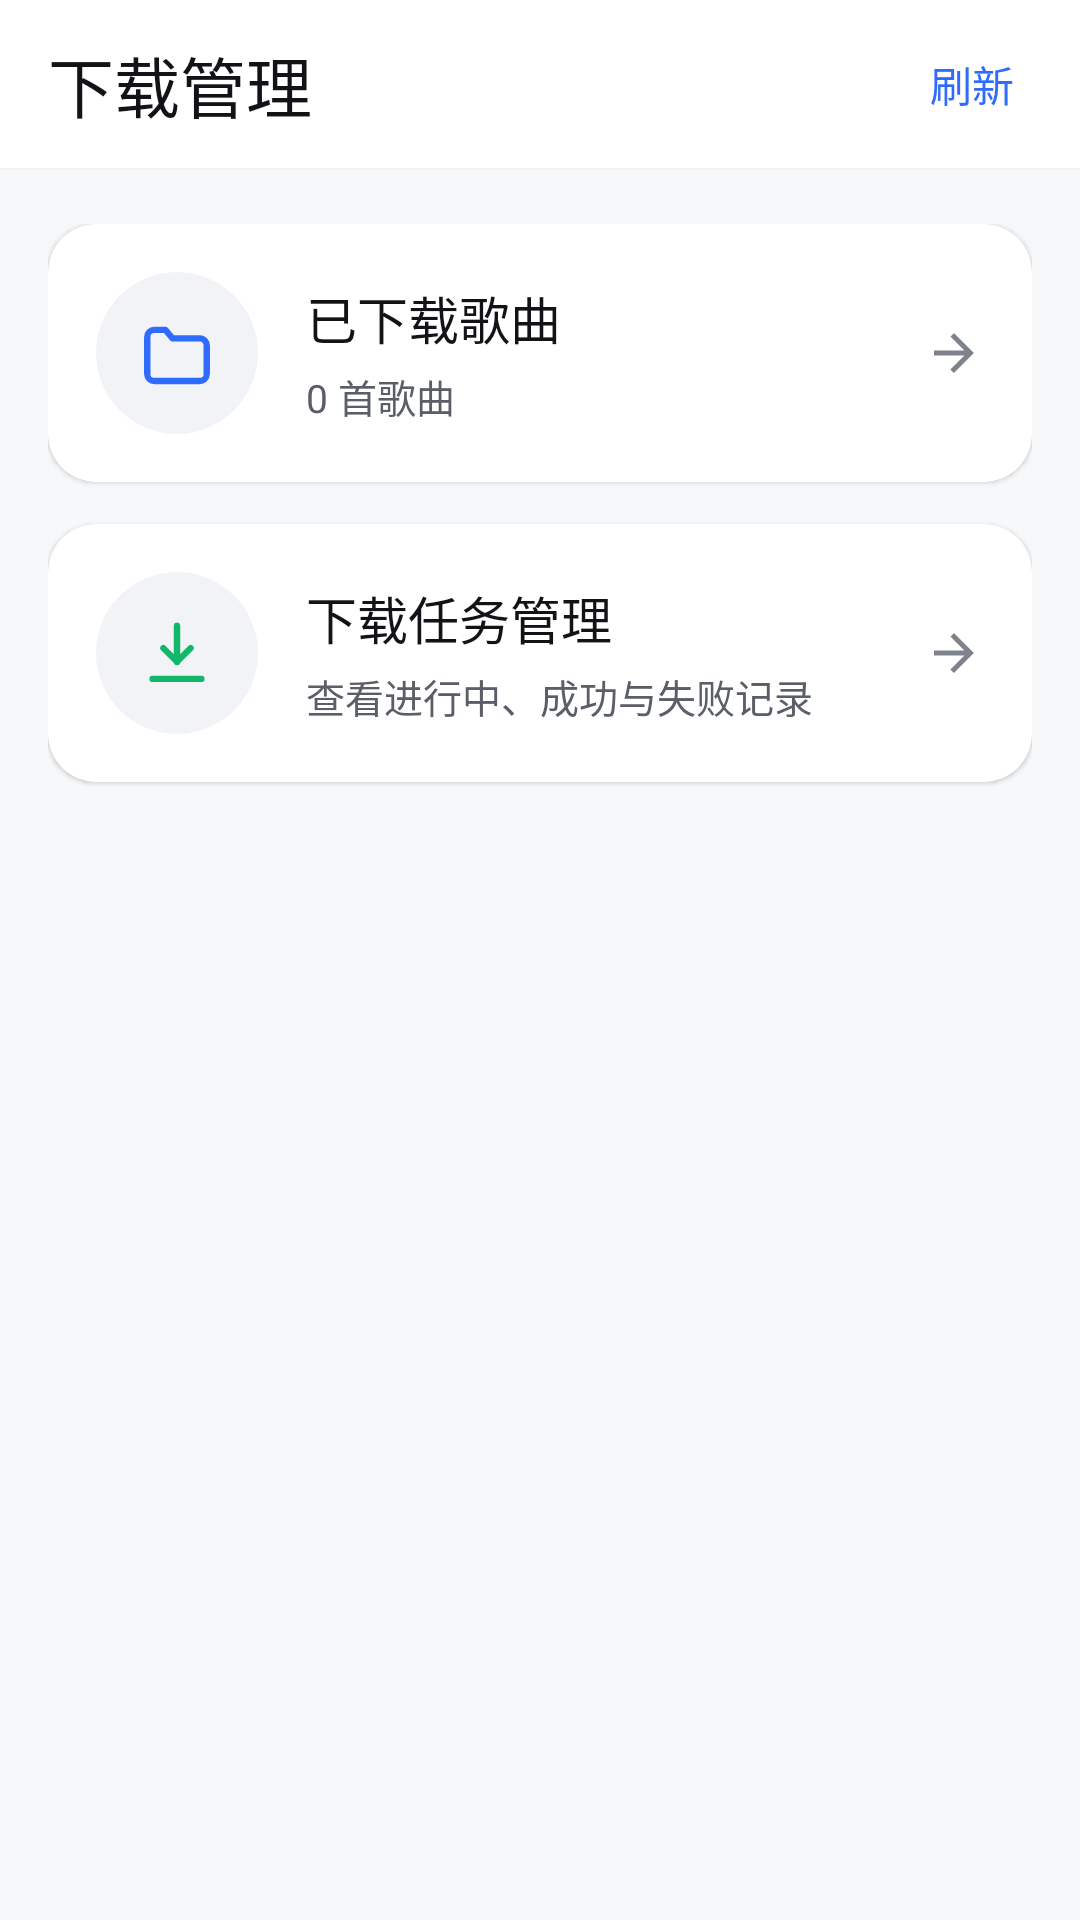

Where icons sit on this 1080*1920 app screen, as (x1, y1, x2, y2):
func download: (149, 622, 205, 682)
func folder: (144, 326, 210, 385)
